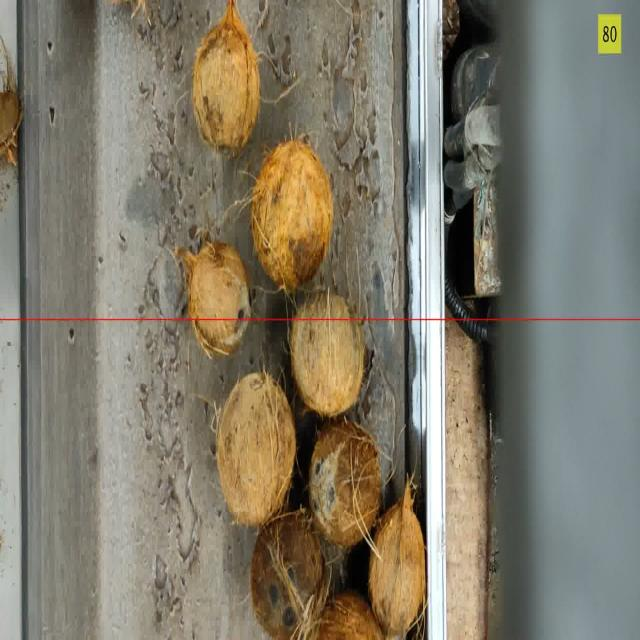Coconut-Conveyor-Belt: (251, 140, 333, 292), (217, 373, 295, 525), (251, 510, 328, 639), (309, 419, 381, 547), (290, 293, 364, 416), (192, 18, 259, 148), (176, 242, 250, 356), (369, 485, 425, 635), (316, 592, 384, 639), (0, 37, 23, 165), (0, 92, 21, 145)
